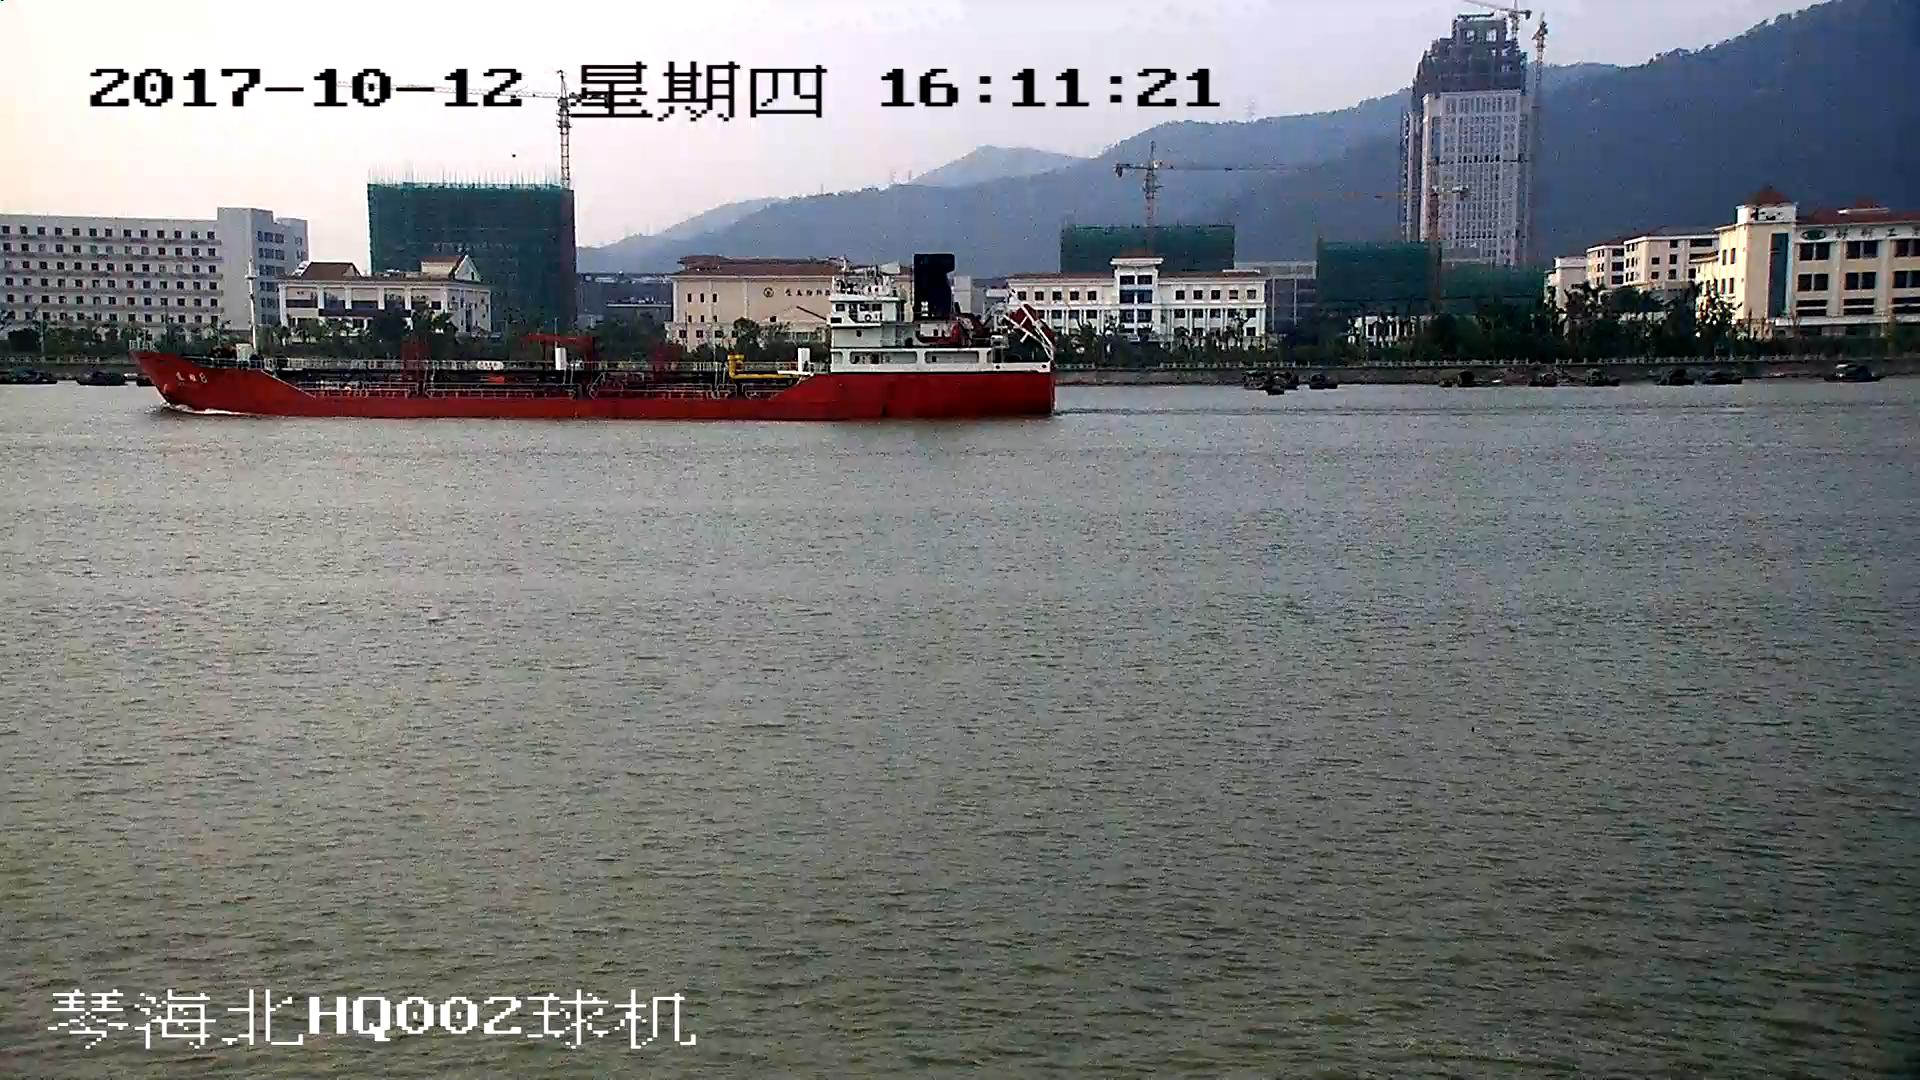general cargo ship: (124, 249, 1055, 424)
